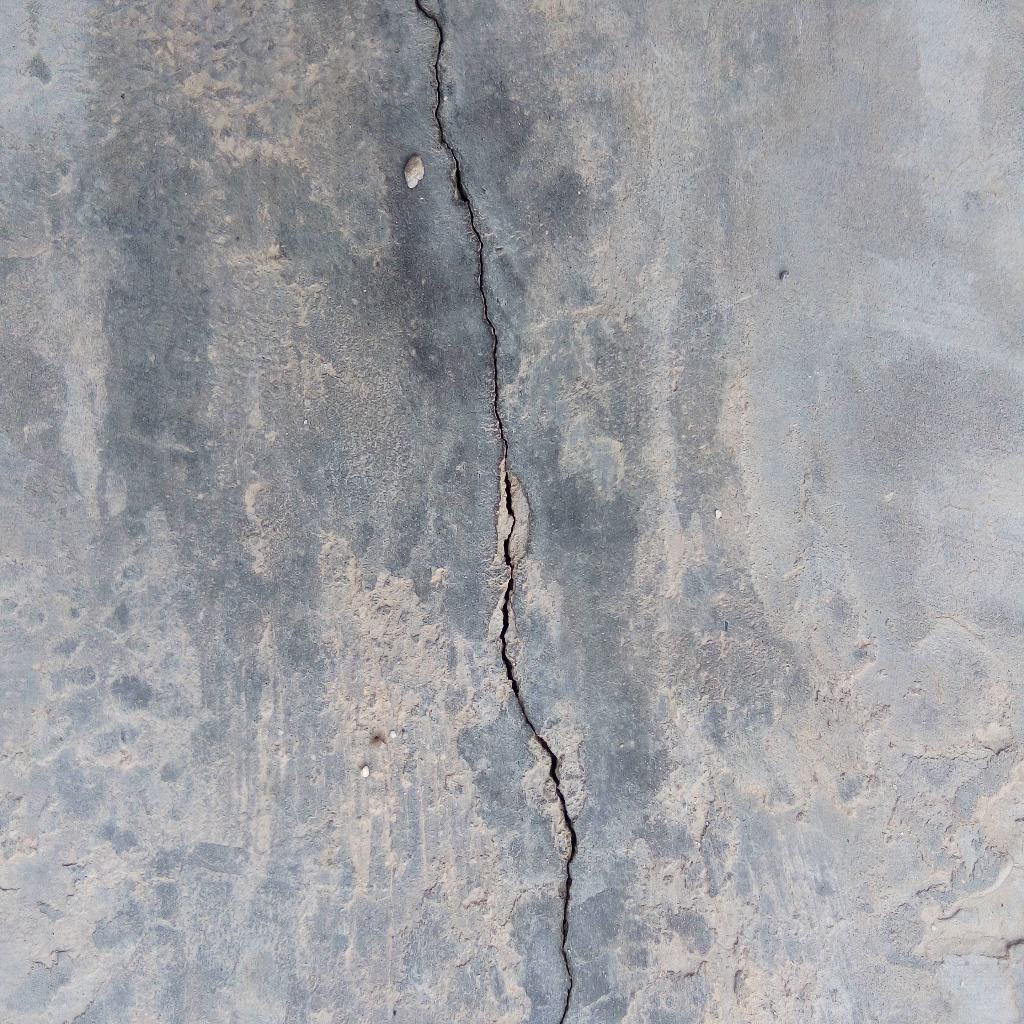Crack: (413, 1, 580, 1024)
